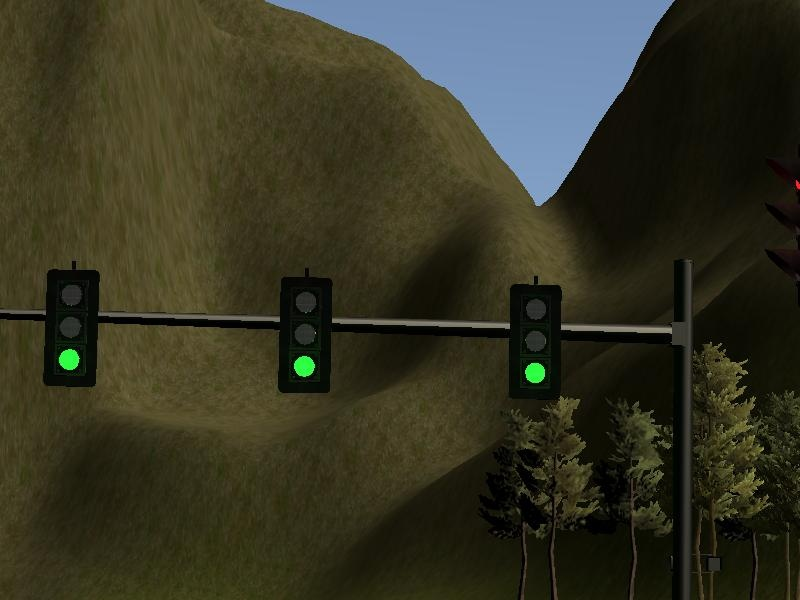GREEN: (43, 269, 97, 386), (278, 278, 331, 395), (509, 287, 560, 395)
